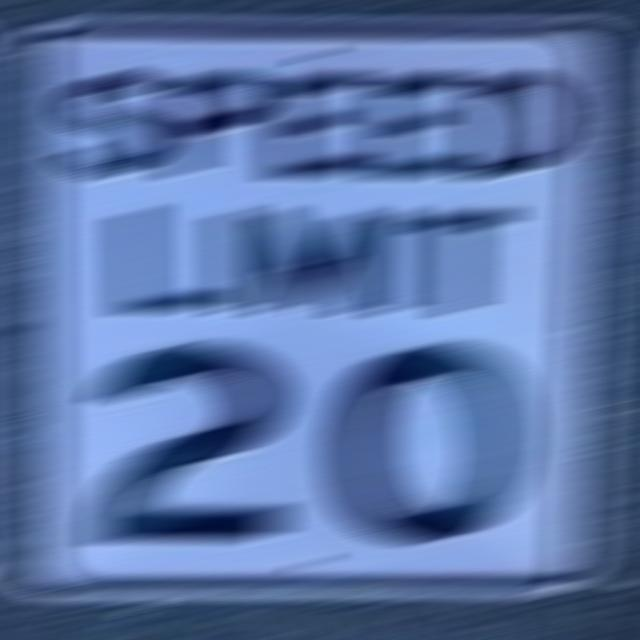speedLimit20: (12, 21, 605, 588)
